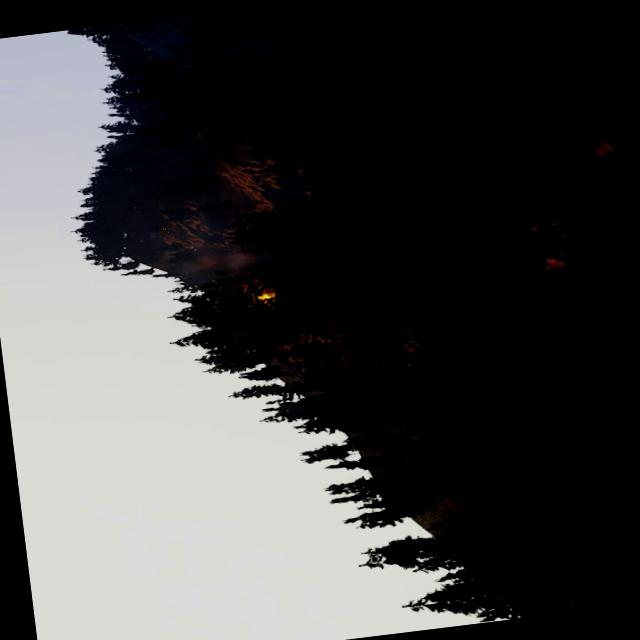fire: (257, 289, 276, 303)
smoke: (176, 244, 264, 279)
